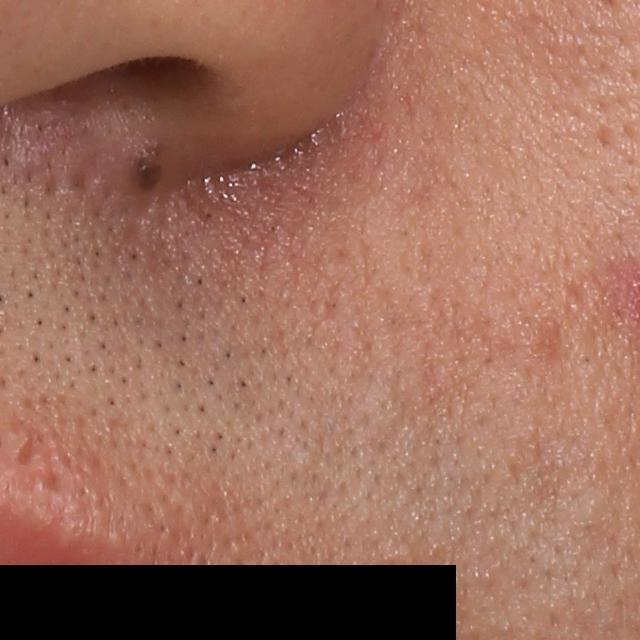atrophic_scar: (11, 420, 47, 467)
